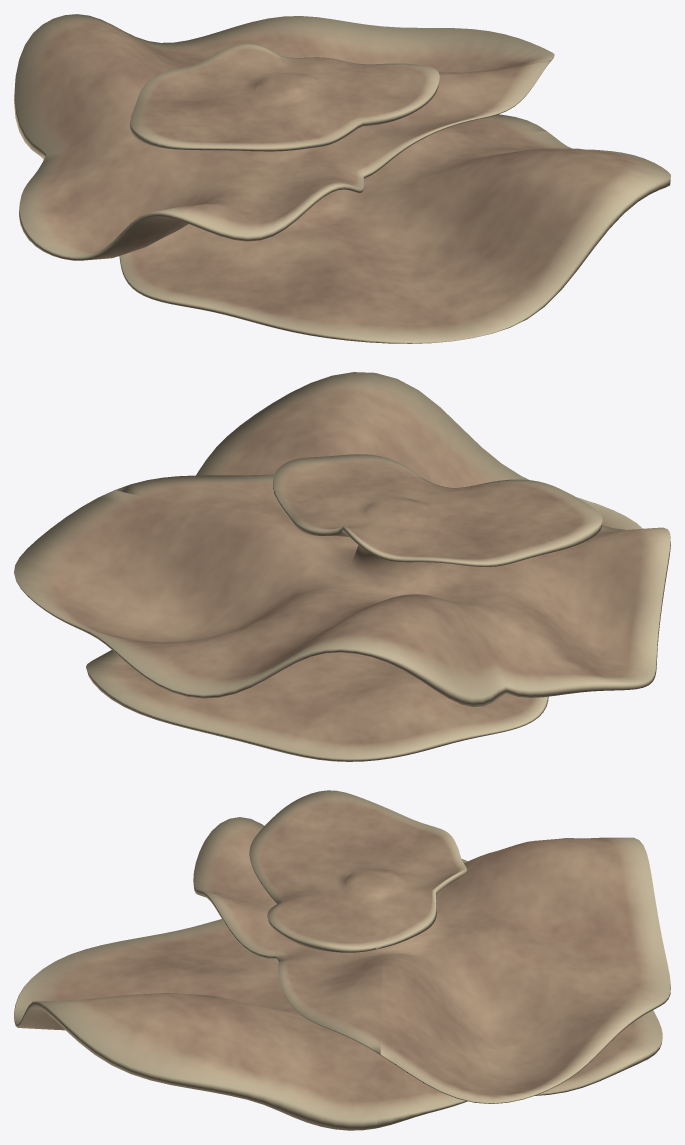
The model's file is plate_v6_lobed_lod0.glb.
3 renders of one model, top to bottom at view 1: azimuth 30°, elevation 25°; view 2: azimuth 150°, elevation 25°; view 3: azimuth 270°, elevation 25°, orthographic. The views are drawn at different scales.
Visible parts, largest first — view 1: plate_v6_folds_lobed_LOD0; view 2: plate_v6_folds_lobed_LOD0; view 3: plate_v6_folds_lobed_LOD0.
Part boxes in pixels (box(x1,y1,x2,y2)): plate_v6_folds_lobed_LOD0: box(14, 14, 670, 343); plate_v6_folds_lobed_LOD0: box(14, 372, 670, 761); plate_v6_folds_lobed_LOD0: box(14, 790, 670, 1130).
Bounding box in the file's own units: 1.09 × 0.33 × 1.13.
Materials: 1 (1 with a texture image).
